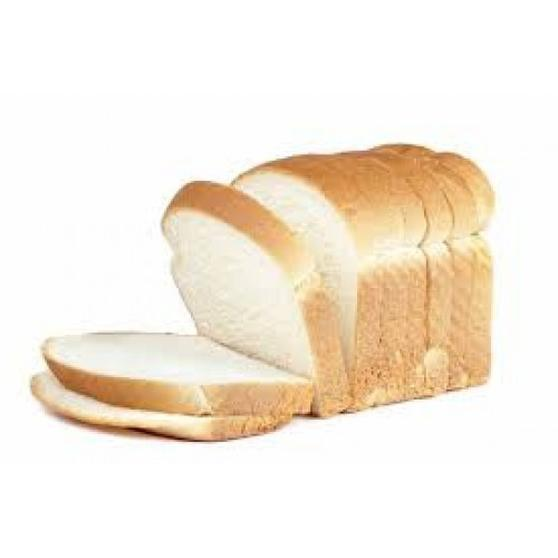white_bread: (169, 143, 508, 406)
